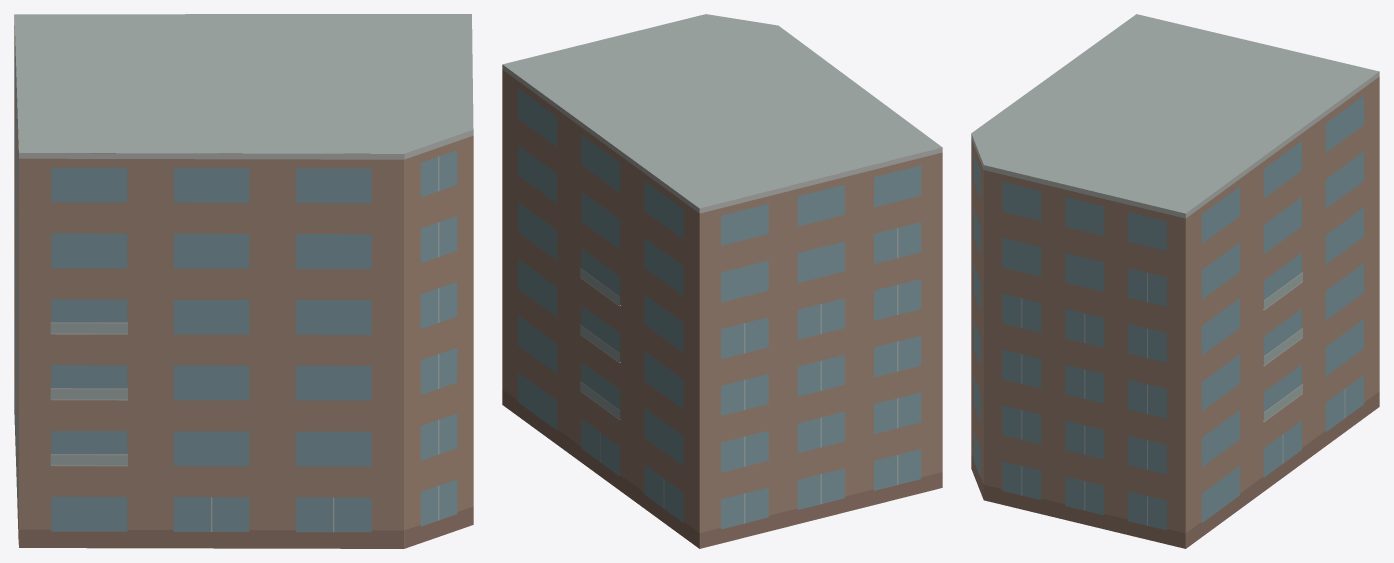
Rendered from survey-upis-32670086.glb.
The picture shows the model from 3 angles, left to right: view 1: azimuth 30°, elevation 25°; view 2: azimuth 150°, elevation 25°; view 3: azimuth 270°, elevation 25°; orthographic projection. The views are drawn at different scales.
Parts seen in each view (by area): view 1: survey-upis-32670086.tmp; view 2: survey-upis-32670086.tmp; view 3: survey-upis-32670086.tmp.
Boxes of the visible parts, x1=… form: survey-upis-32670086.tmp: x1=14, y1=14, x2=473, y2=548; survey-upis-32670086.tmp: x1=502, y1=14, x2=942, y2=548; survey-upis-32670086.tmp: x1=971, y1=14, x2=1379, y2=548.
Size of the model in its own units: 21.15 by 16.55 by 18.28.
